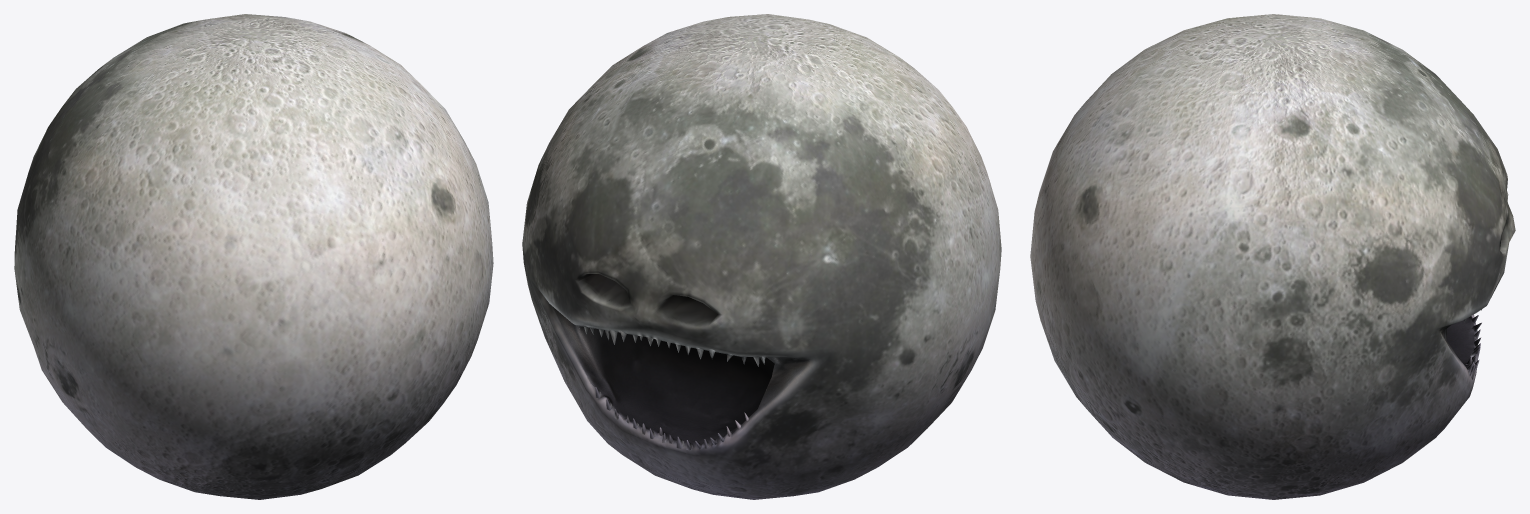
The model's file is moon.glb.
The picture shows the model from 3 angles, left to right: view 1: azimuth 30°, elevation 25°; view 2: azimuth 150°, elevation 25°; view 3: azimuth 270°, elevation 25°; orthographic projection.
Parts seen in each view (by area): view 1: Moon WokeUp; view 2: Moon WokeUp; view 3: Moon WokeUp.
Part boxes in pixels (x1,y1,x2,y2): Moon WokeUp: (14,14,493,499); Moon WokeUp: (522,14,1001,499); Moon WokeUp: (1030,14,1515,499).
Size of the model in its own units: 13.27 by 13.39 by 13.33.
1 material, 1 textured.
